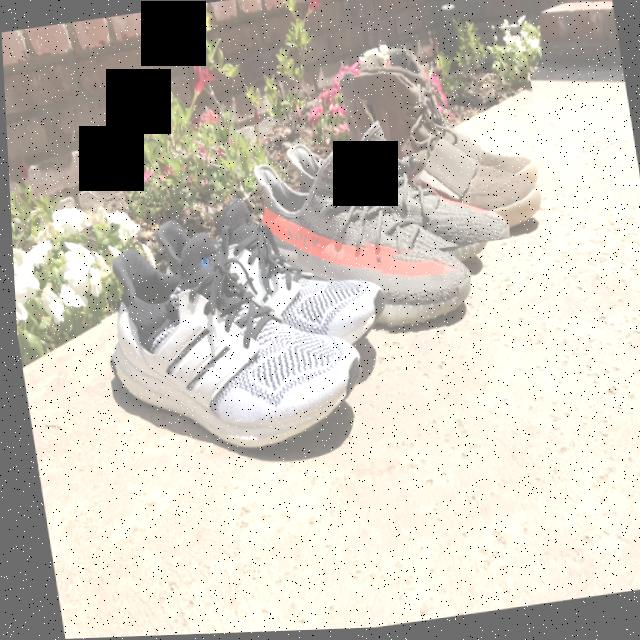shoe: (79, 172, 412, 496), (234, 102, 512, 356), (316, 17, 552, 264)
